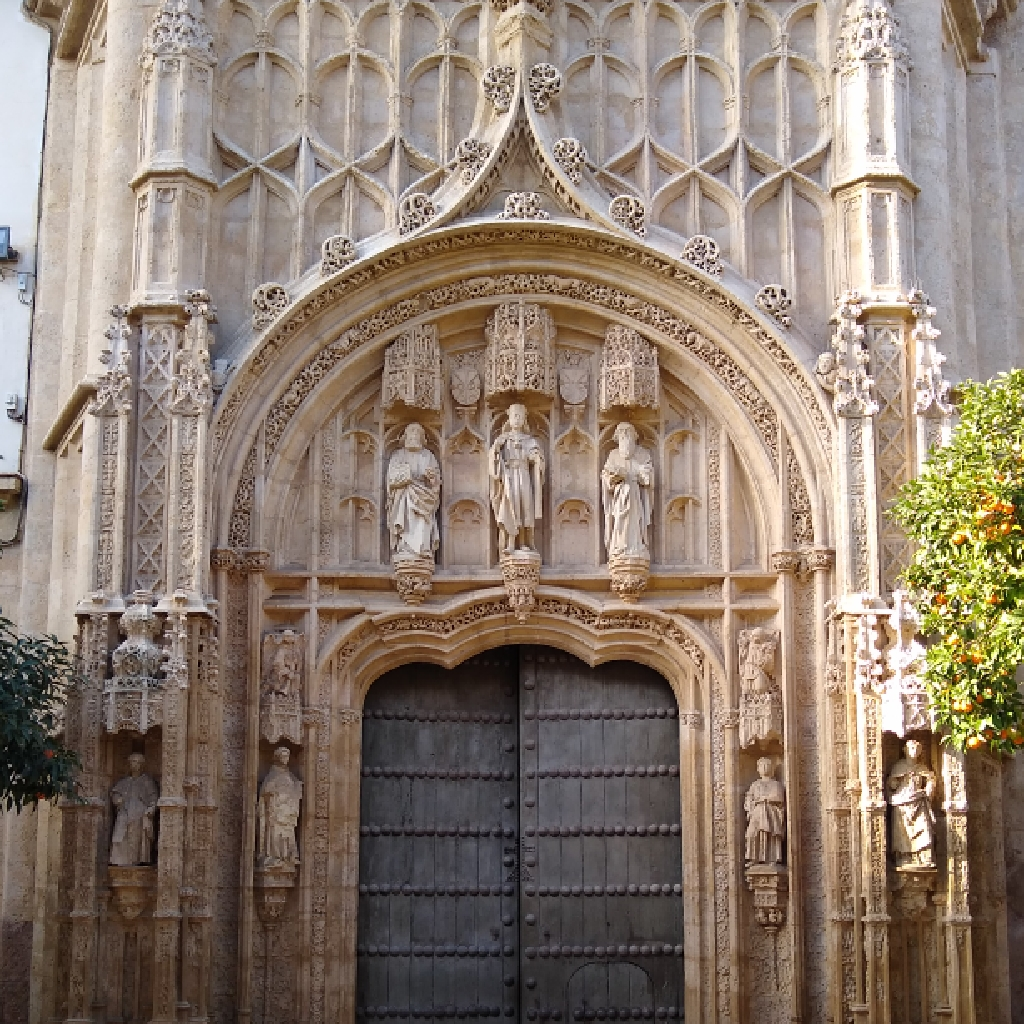arco-conopial: (240, 65, 797, 358)
arco-trilobulado: (336, 584, 709, 738)
